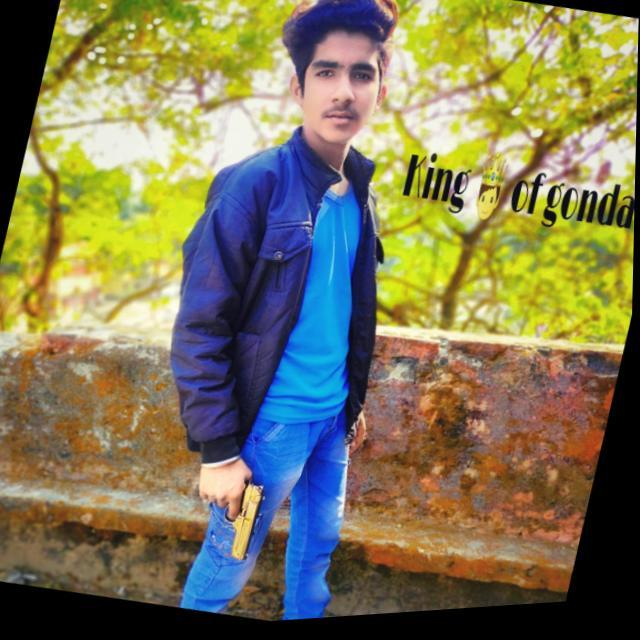weapon: (182, 463, 276, 576)
